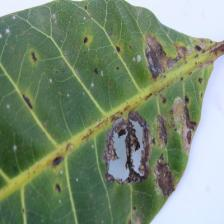leaf miner: (99, 100, 175, 206), (163, 89, 204, 164), (138, 35, 200, 84)
